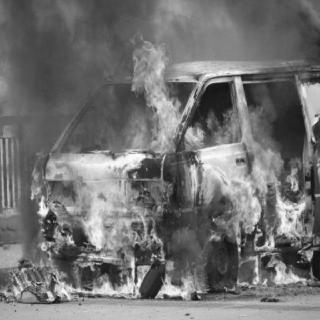Fire: (185, 111, 268, 144)
